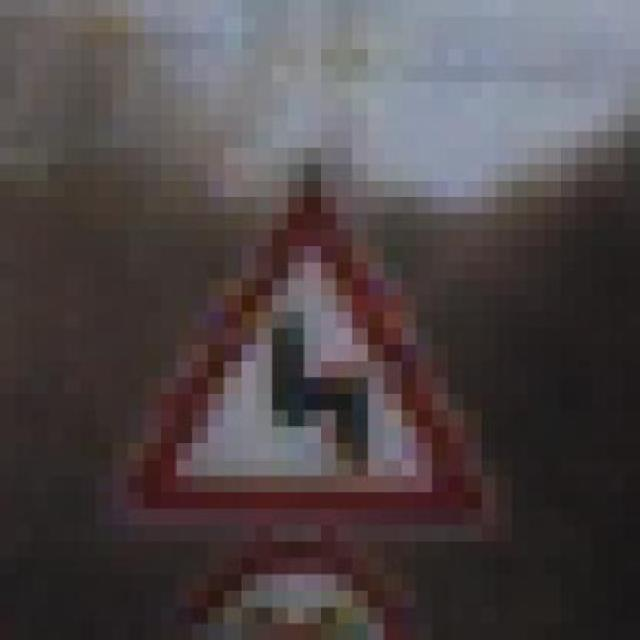Left Zig Zag Traffic: (80, 132, 528, 526)
